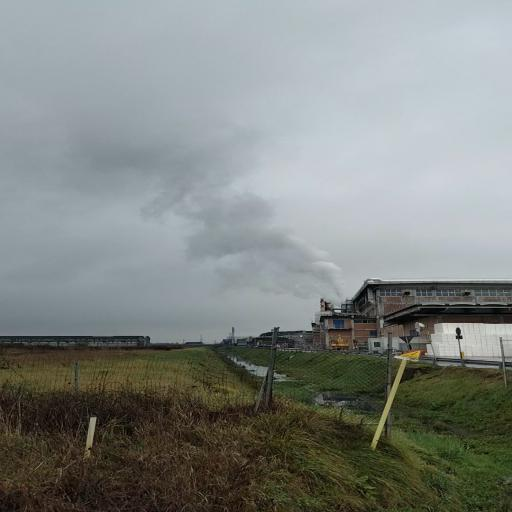leakage: (60, 101, 357, 306)
